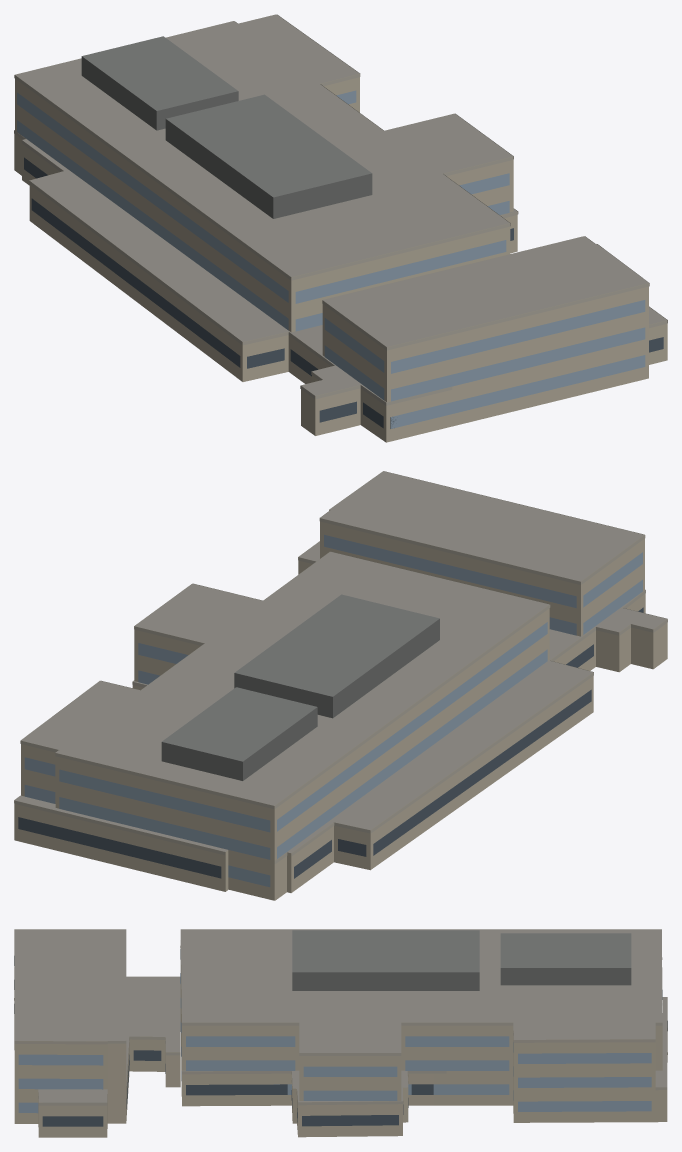
The model's file is little-rock-diagnostic-clinic.glb.
The picture shows the model from 3 angles, top to bottom: view 1: azimuth 30°, elevation 25°; view 2: azimuth 150°, elevation 25°; view 3: azimuth 270°, elevation 25°; orthographic projection. The views are drawn at different scales.
Parts seen in each view (by area): view 1: little_rock_diagnostic_clinic; view 2: little_rock_diagnostic_clinic; view 3: little_rock_diagnostic_clinic.
Part boxes in pixels (left/top/right/bottom): little_rock_diagnostic_clinic: left=14, top=14, right=667, bottom=442; little_rock_diagnostic_clinic: left=14, top=471, right=667, bottom=900; little_rock_diagnostic_clinic: left=14, top=929, right=667, bottom=1137.
Bounding box in the file's own units: 50.74 × 16.54 × 96.36.
